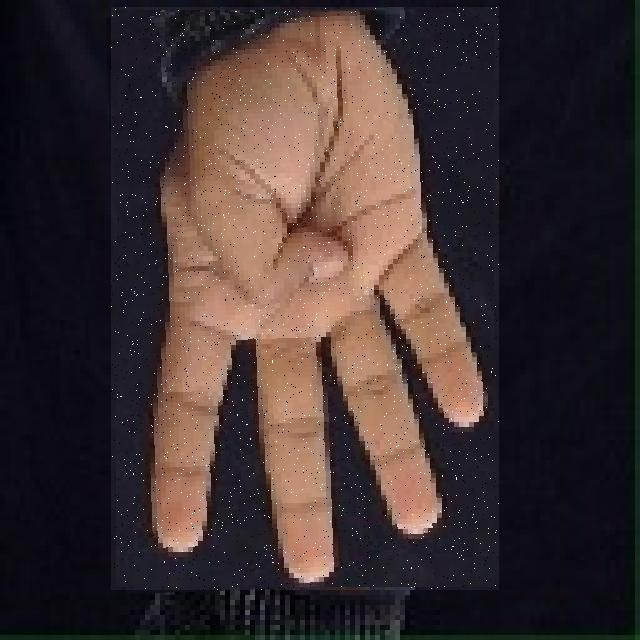Thanks: (111, 7, 499, 590)
